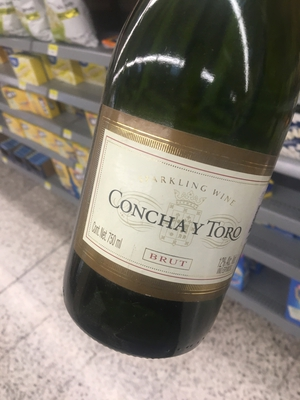brut: (71, 8, 275, 368)
